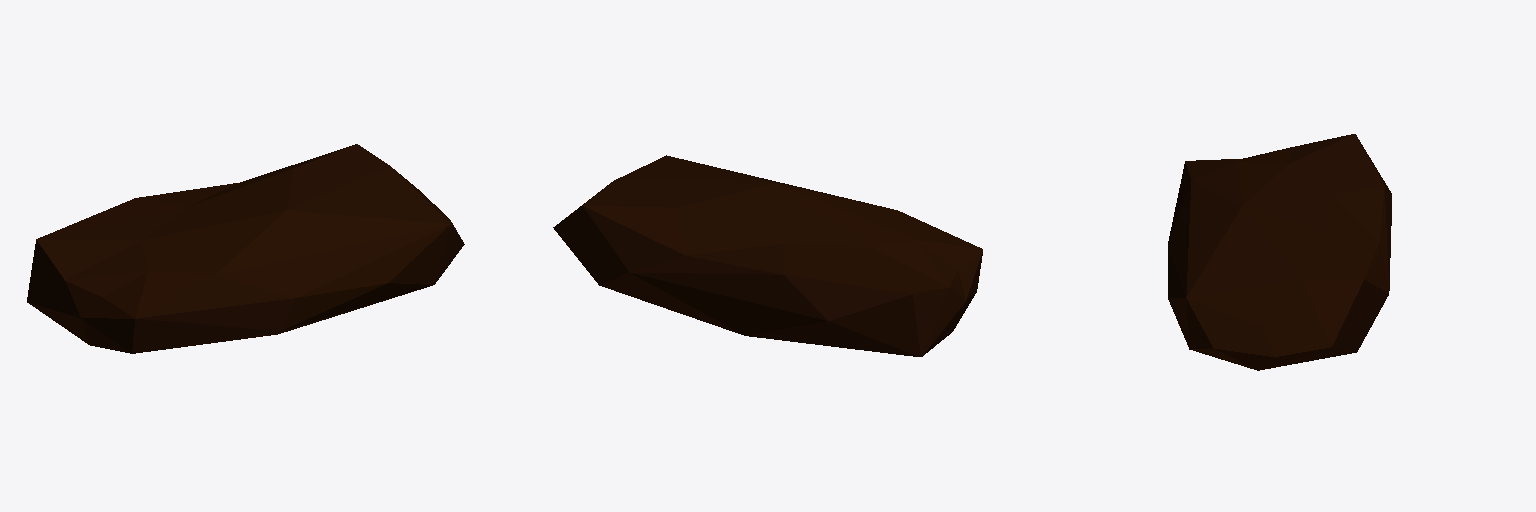
File: tomb4.obj
The picture shows the model from 3 angles: view 1: azimuth 30°, elevation 25°; view 2: azimuth 150°, elevation 25°; view 3: azimuth 270°, elevation 25°; orthographic projection.
Visible parts, largest first — view 1: Gravestone3_Icosphere.023; view 2: Gravestone3_Icosphere.023; view 3: Gravestone3_Icosphere.023.
Part boxes in pixels (bbox=[...]): Gravestone3_Icosphere.023: bbox=[27, 144, 464, 353]; Gravestone3_Icosphere.023: bbox=[553, 155, 982, 356]; Gravestone3_Icosphere.023: bbox=[1168, 134, 1391, 370].
Size of the model in its own units: 3.86 by 1.09 by 1.97.